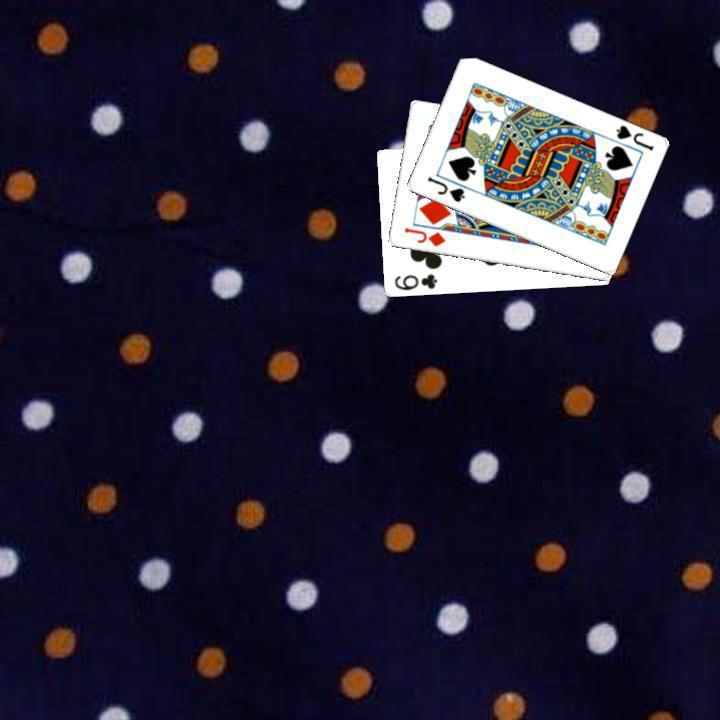6: (390, 270, 439, 293)
J: (423, 172, 467, 204), (611, 121, 655, 153), (400, 223, 447, 249)
